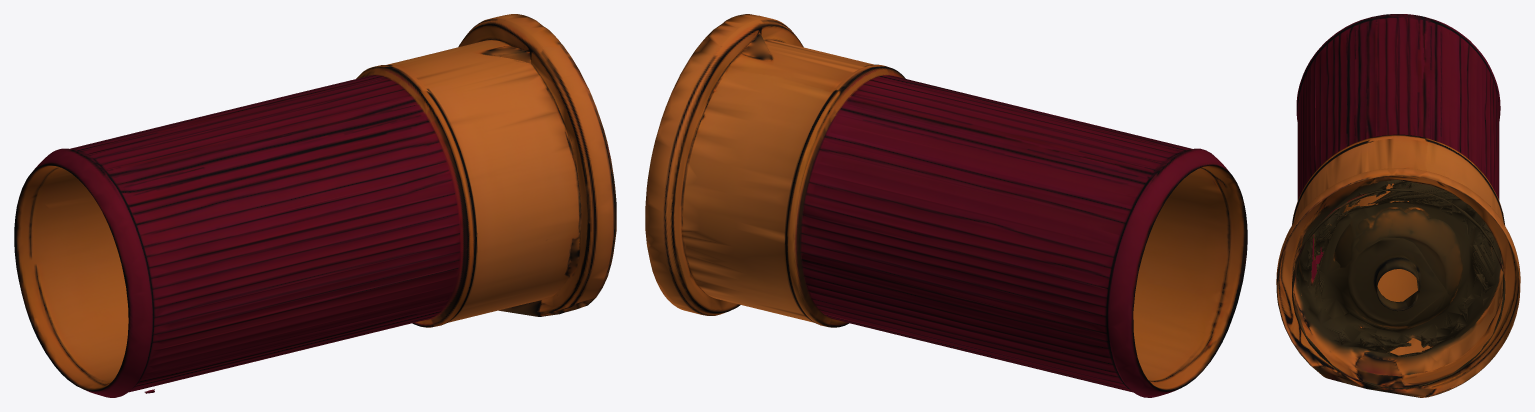
The model's file is WPN-SHELL-01.glb.
3 views of the same model, side by side, from view 1: azimuth 30°, elevation 25°; view 2: azimuth 150°, elevation 25°; view 3: azimuth 270°, elevation 25° (orthographic). The views are drawn at different scales.
Parts seen in each view (by area): view 1: node_0; view 2: node_0; view 3: node_0.
Boxes of the visible parts, x1,y1,x2,y2 form: node_0: (14, 14, 616, 397); node_0: (645, 14, 1247, 397); node_0: (1276, 14, 1520, 397).
Size of the model in its own units: 1.06 by 0.5854 by 0.5805.
1 material, 1 textured.
